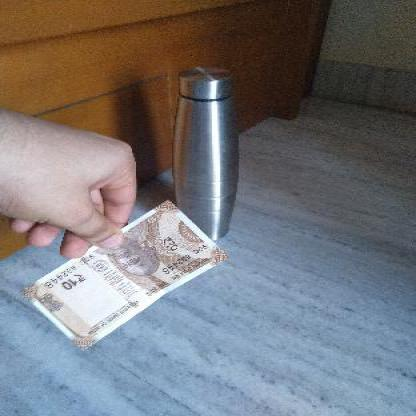New10Front: (23, 197, 221, 351)
